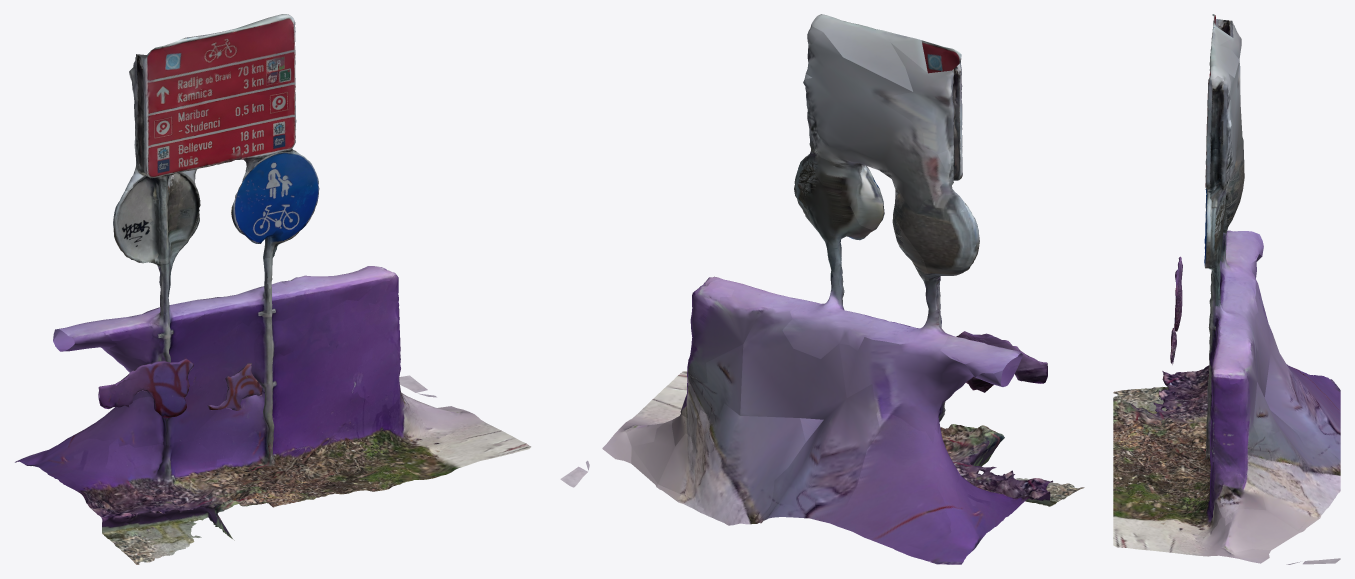
Rendered from sign.obj.
3 renders of one model, left to right at view 1: azimuth 30°, elevation 25°; view 2: azimuth 150°, elevation 25°; view 3: azimuth 270°, elevation 25°, orthographic. The views are drawn at different scales.
Visible parts, largest first — view 1: Object; view 2: Object; view 3: Object.
Boxes of the visible parts, x1=… form: Object: x1=15, y1=14, x2=531, y2=564; Object: x1=560, y1=14, x2=1084, y2=564; Object: x1=1113, y1=14, x2=1340, y2=564.
Size of the model in its own units: 0.9632 by 1.07 by 0.5333.
1 material, 1 textured.
